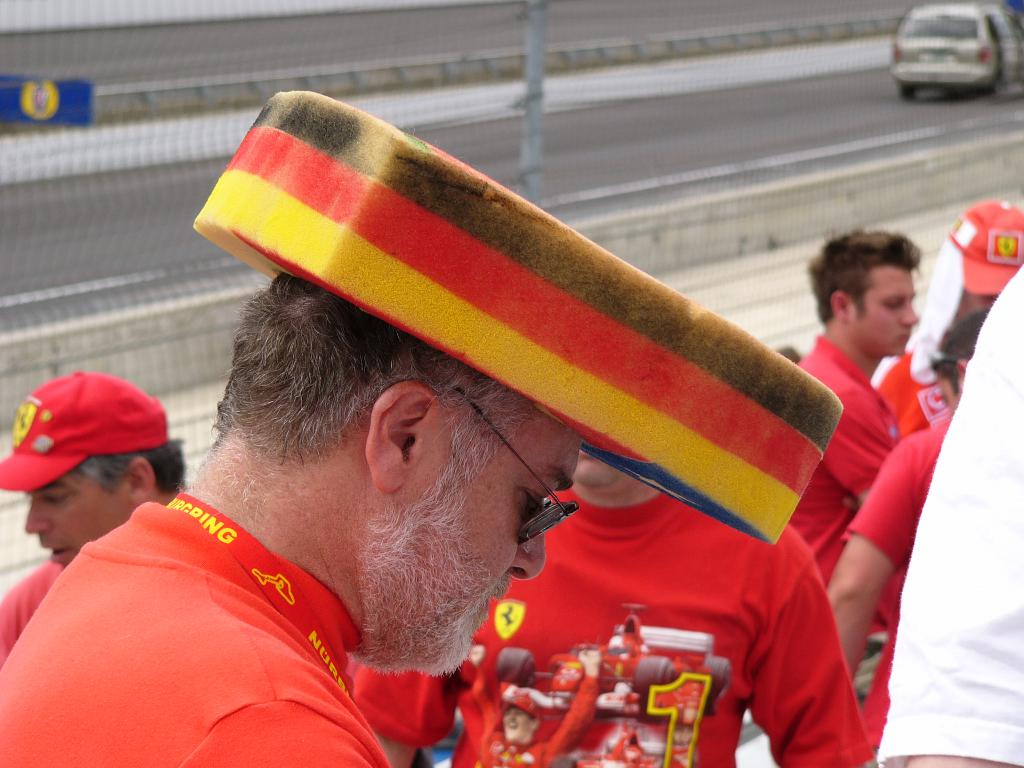Car: (887, 0, 1011, 95)
